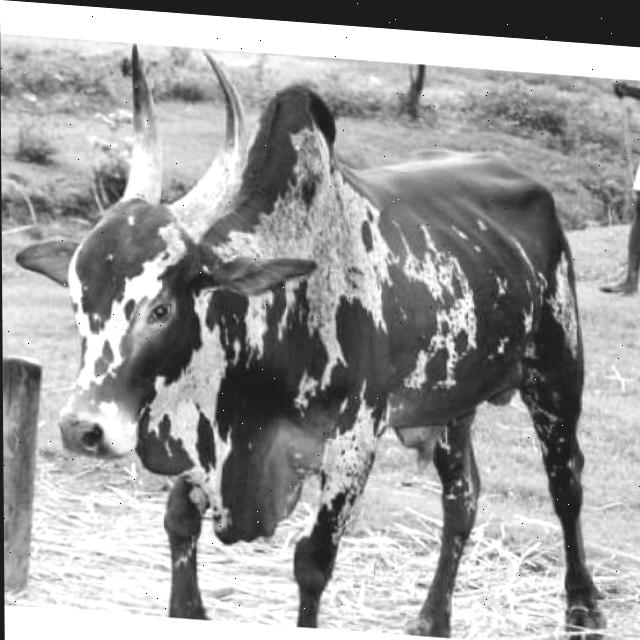Cow: (13, 33, 609, 640)
